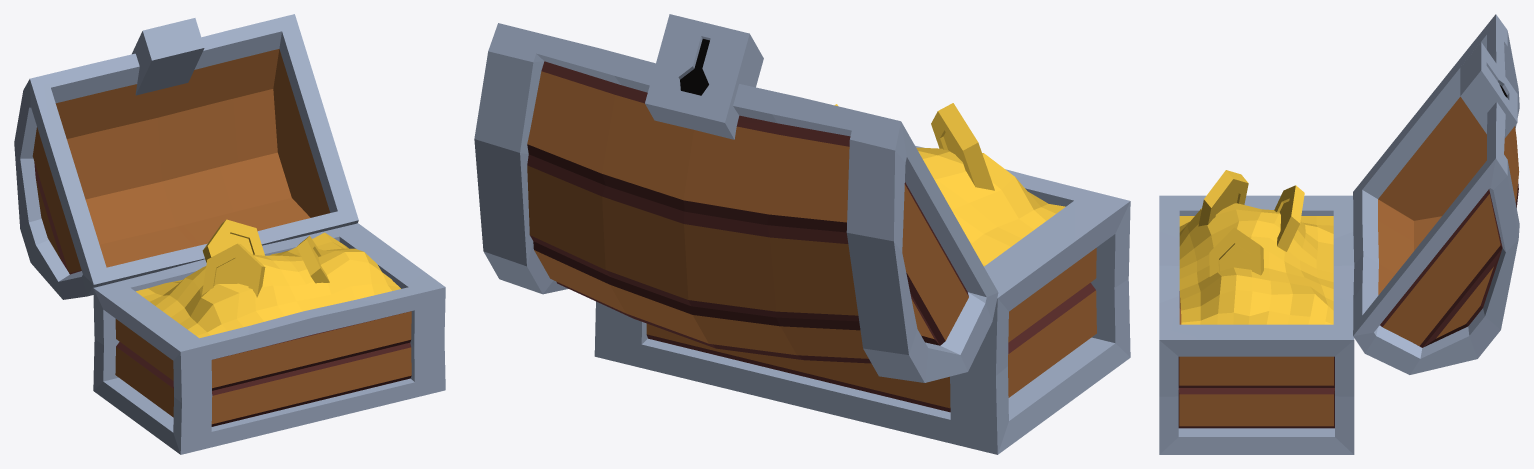
File: treasure.fbx
3 renders of one model, left to right at view 1: azimuth 30°, elevation 25°; view 2: azimuth 150°, elevation 25°; view 3: azimuth 270°, elevation 25°, orthographic. The views are drawn at different scales.
Visible parts, largest first — view 1: chest bottom.001; view 2: chest bottom.001; view 3: chest bottom.001.
Part boxes in pixels (x1=…): chest bottom.001: x1=14, y1=14, x2=445, y2=454; chest bottom.001: x1=474, y1=14, x2=1130, y2=454; chest bottom.001: x1=1159, y1=14, x2=1519, y2=454.
Size of the model in its own units: 50 by 50 by 50.
